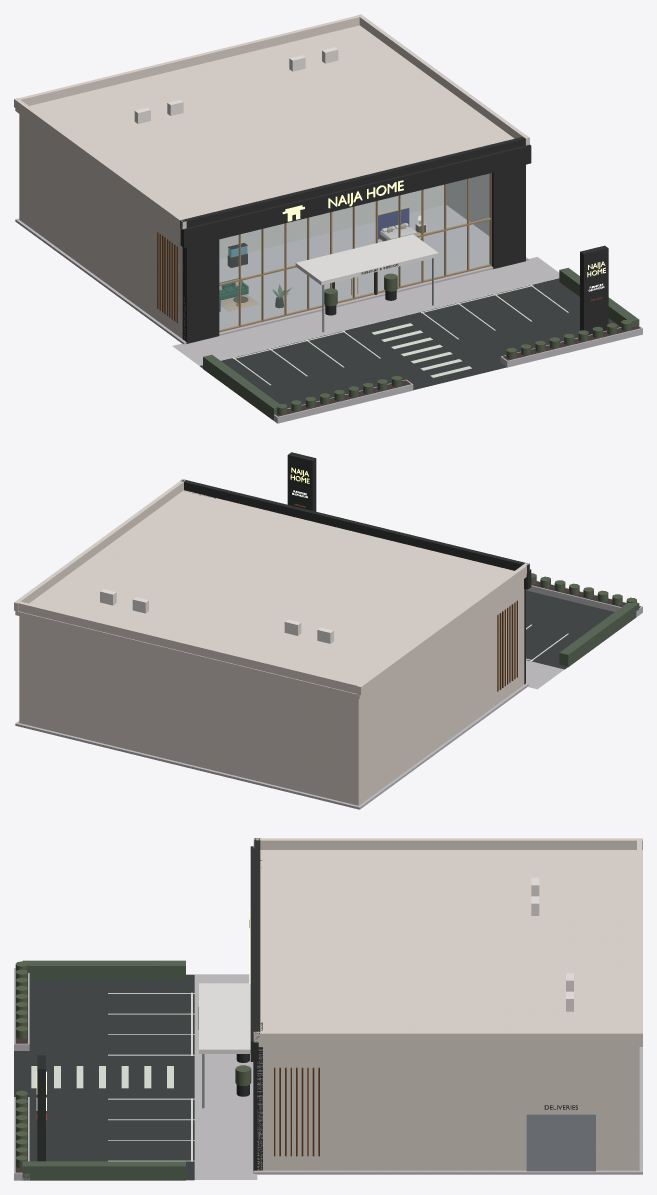
The model's file is set_gra_naijahome.glb.
3 views of the same model, one above another, from view 1: azimuth 30°, elevation 25°; view 2: azimuth 150°, elevation 25°; view 3: azimuth 270°, elevation 25° (orthographic). The views are drawn at different scales.
Visible parts, largest first — view 1: GR_set_gra_naijahome, GD_set_gra_naijahome; view 2: GR_set_gra_naijahome, GD_set_gra_naijahome; view 3: GR_set_gra_naijahome, GD_set_gra_naijahome.
Boxes of the visible parts, <box> form: GR_set_gra_naijahome: <box>14,14,642,423</box>; GD_set_gra_naijahome: <box>134,47,631,415</box>; GR_set_gra_naijahome: <box>14,452,642,809</box>; GD_set_gra_naijahome: <box>100,467,636,643</box>; GR_set_gra_naijahome: <box>14,838,642,1180</box>; GD_set_gra_naijahome: <box>15,877,577,1168</box>.
Bounding box in the file's own units: 28 × 9.2 × 36.2.
Materials: 14 (2 with a texture image).
